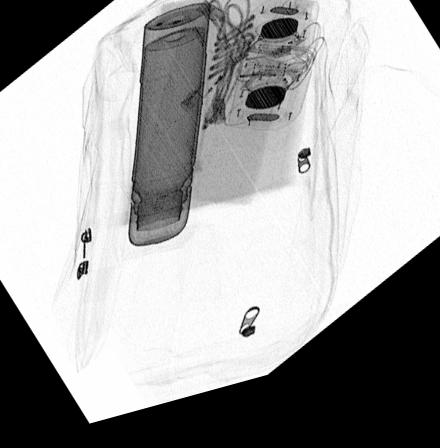Lighter: (180, 51, 253, 127)
